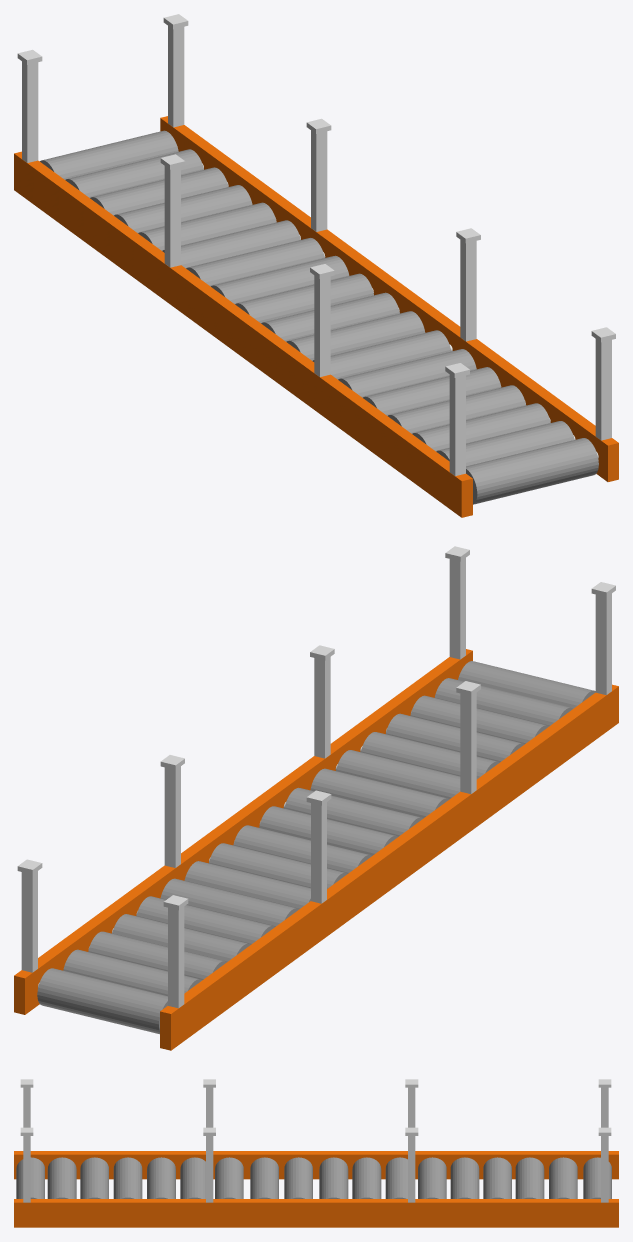
The model's file is conveyor.fbx.
3 renders of one model, top to bottom at view 1: azimuth 30°, elevation 25°; view 2: azimuth 150°, elevation 25°; view 3: azimuth 270°, elevation 25°, orthographic. The views are drawn at different scales.
Visible parts, largest first — view 1: Cube, Cube.001, Cylinder, Cylinder.017, Cylinder.011, Cylinder.006, Cylinder.005, Cylinder.007, Cylinder.009, Cylinder.012, Cylinder.008, Cylinder.010 (+16 smaller); view 2: Cube, Cube.001, Cylinder.017, Cylinder.006, Cylinder.005, Cylinder.011, Cylinder, Cylinder.012, Cylinder.008, Cylinder.016, Cylinder.003, Cylinder.004 (+16 smaller); view 3: Cube.001, Cube, Cylinder.003, Cylinder.013, Cylinder.015, Cylinder.009, Cylinder.010, Cylinder.001, Cylinder.014, Cylinder.006, Cylinder.008, Cylinder.012 (+16 smaller).
Part boxes in pixels (box(x1,y1,x2,y2)): Cube: box(14, 151, 472, 517); Cube.001: box(160, 116, 618, 481); Cylinder: box(466, 438, 598, 504); Cylinder.017: box(40, 130, 178, 179); Cylinder.011: box(186, 238, 324, 286); Cylinder.006: box(312, 330, 451, 379); Cylinder.005: box(338, 349, 476, 397); Cylinder.007: box(286, 311, 425, 360); Cylinder.009: box(235, 273, 373, 323); Cylinder.012: box(162, 220, 300, 268); Cylinder.008: box(261, 292, 399, 341); Cylinder.010: box(211, 255, 349, 303); Cube: box(160, 684, 618, 1050); Cube.001: box(14, 649, 472, 1014); Cylinder.017: box(37, 968, 167, 1034); Cylinder.006: box(310, 768, 449, 818); Cylinder.005: box(336, 750, 460, 799); Cylinder.011: box(184, 861, 310, 909); Cylinder: box(458, 661, 595, 708); Cylinder.012: box(160, 878, 298, 926); Cylinder.008: box(259, 806, 397, 855); Cylinder.016: box(63, 949, 201, 996); Cylinder.003: box(386, 713, 524, 762); Cylinder.004: box(361, 732, 499, 779); Cube.001: box(14, 1199, 618, 1227); Cube: box(14, 1151, 618, 1179); Cylinder.003: box(113, 1157, 142, 1198); Cylinder.013: box(450, 1157, 479, 1198); Cylinder.015: box(515, 1157, 544, 1198); Cylinder.009: box(319, 1157, 348, 1198); Cylinder.010: box(352, 1157, 381, 1198); Cylinder.001: box(47, 1157, 76, 1198); Cylinder.014: box(483, 1157, 511, 1198); Cylinder.006: box(215, 1157, 243, 1198); Cylinder.008: box(284, 1157, 312, 1198); Cylinder.012: box(418, 1157, 446, 1198).
Bounding box in the file's own units: 287 × 240 × 1378.
